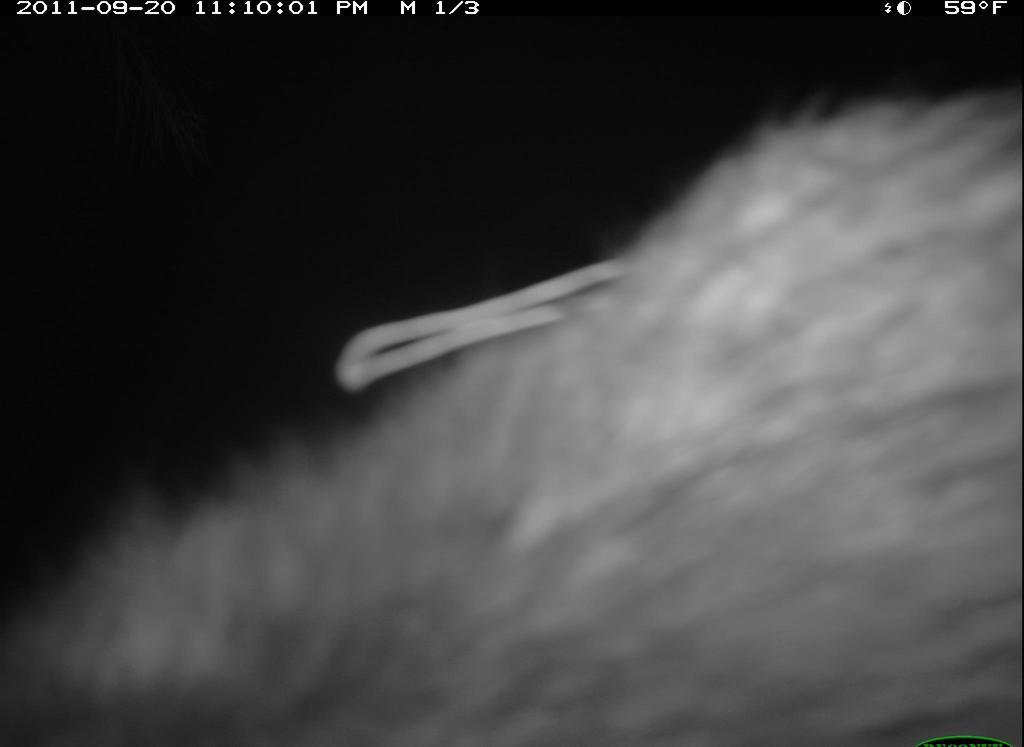raccoon: (11, 85, 1024, 747)
